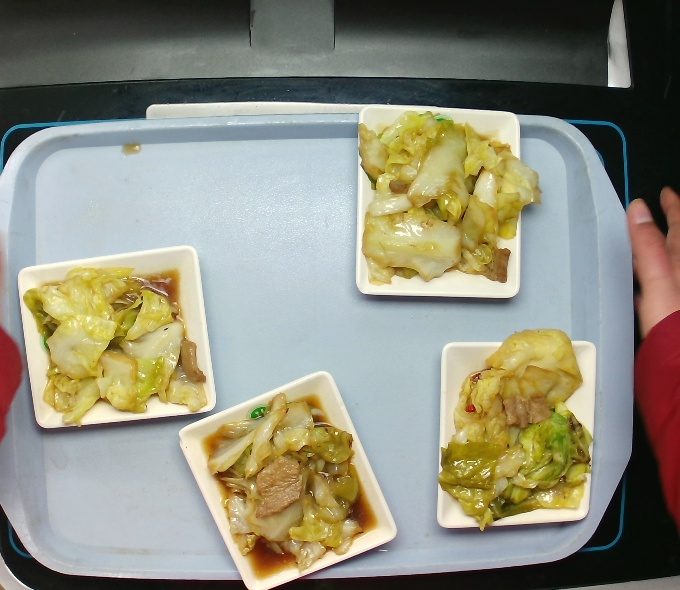wcq-JuanXinCaiChaoRou: (341, 102, 547, 296), (190, 387, 387, 588), (429, 317, 601, 535), (16, 261, 222, 426)
